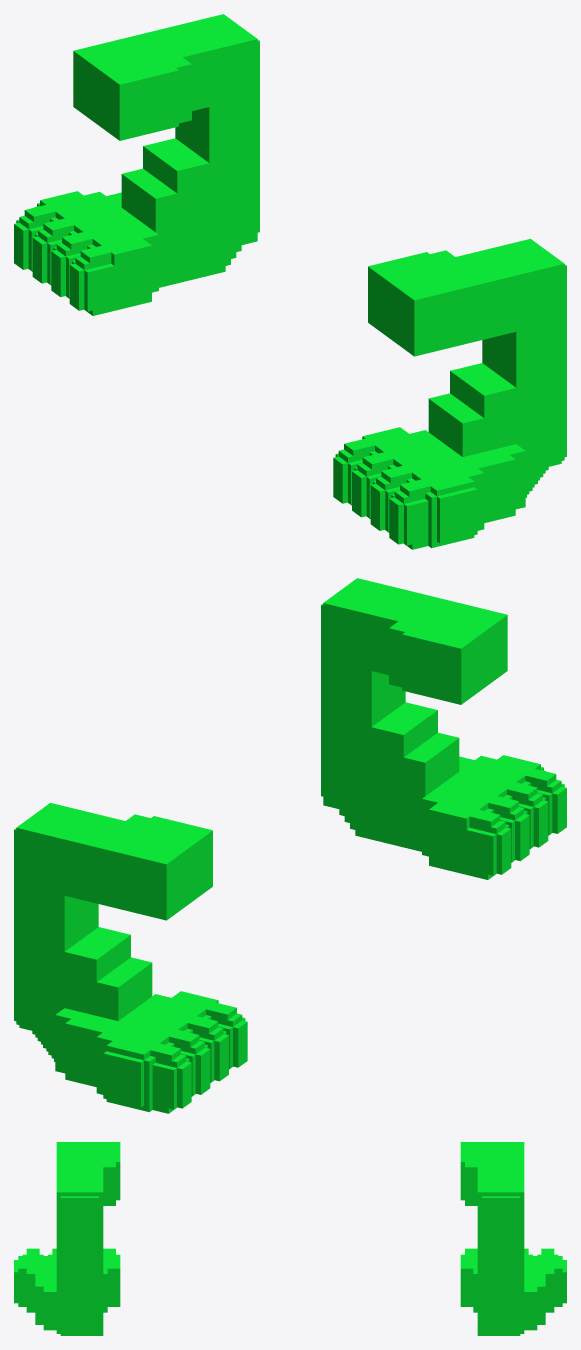
Rendered from flog2-0.obj.
3 views of the same model, one above another, from view 1: azimuth 30°, elevation 25°; view 2: azimuth 150°, elevation 25°; view 3: azimuth 270°, elevation 25° (orthographic). The views are drawn at different scales.
Bounding box in the file's own units: 3.6 × 4 × 13.
1 material, 1 textured.
